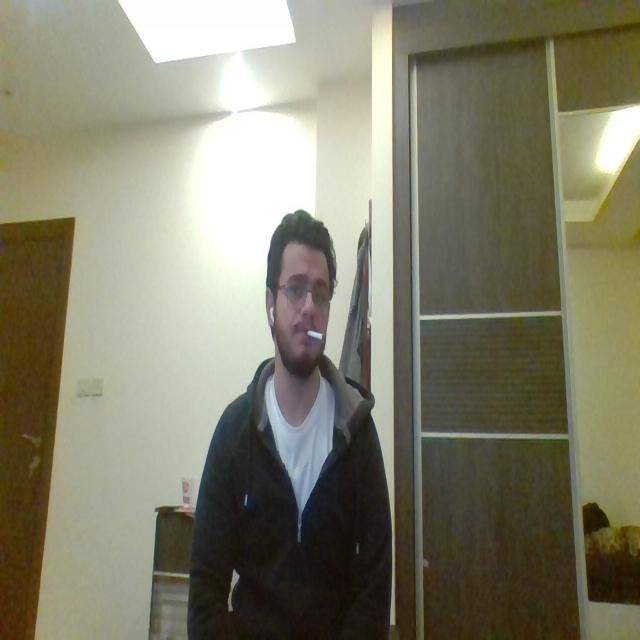smoking: (295, 325, 327, 343)
